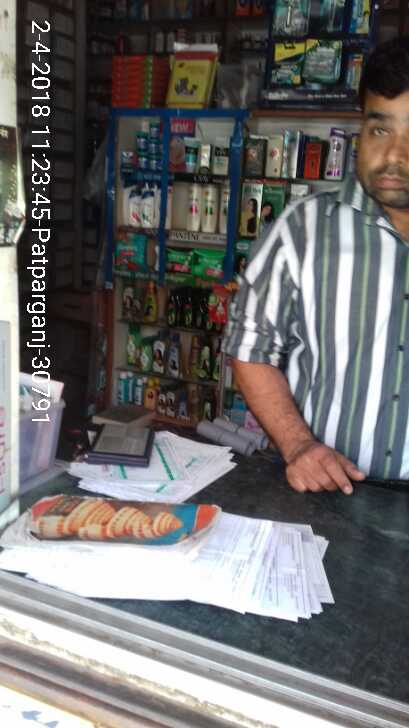vicks: (119, 153, 135, 172), (136, 130, 146, 151), (138, 153, 149, 169), (150, 156, 163, 169), (150, 123, 161, 138), (148, 140, 159, 153)
